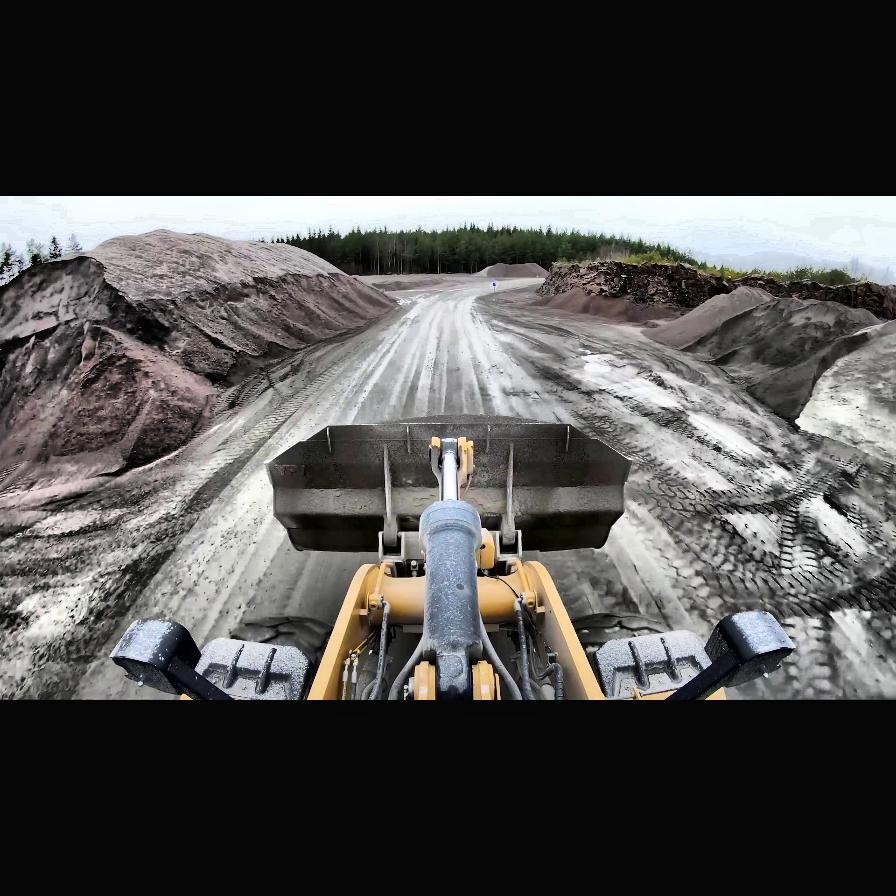anchor: (430, 436, 476, 502)
pile of gravel: (0, 228, 402, 494), (624, 289, 892, 427), (645, 284, 774, 350), (476, 262, 546, 278), (472, 264, 495, 276)
